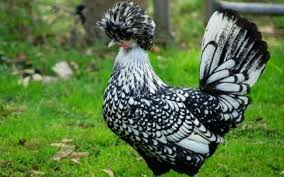Gà/Chicken: (73, 1, 271, 176)
